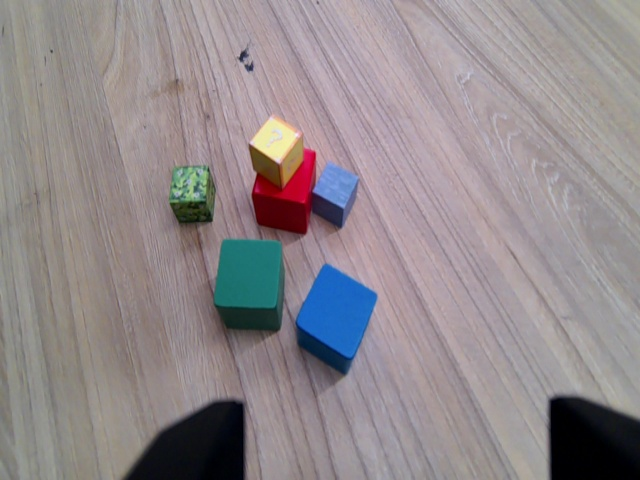grass: (166, 163, 219, 227)
lucky: (245, 113, 309, 192)
stone: (306, 153, 364, 232)
